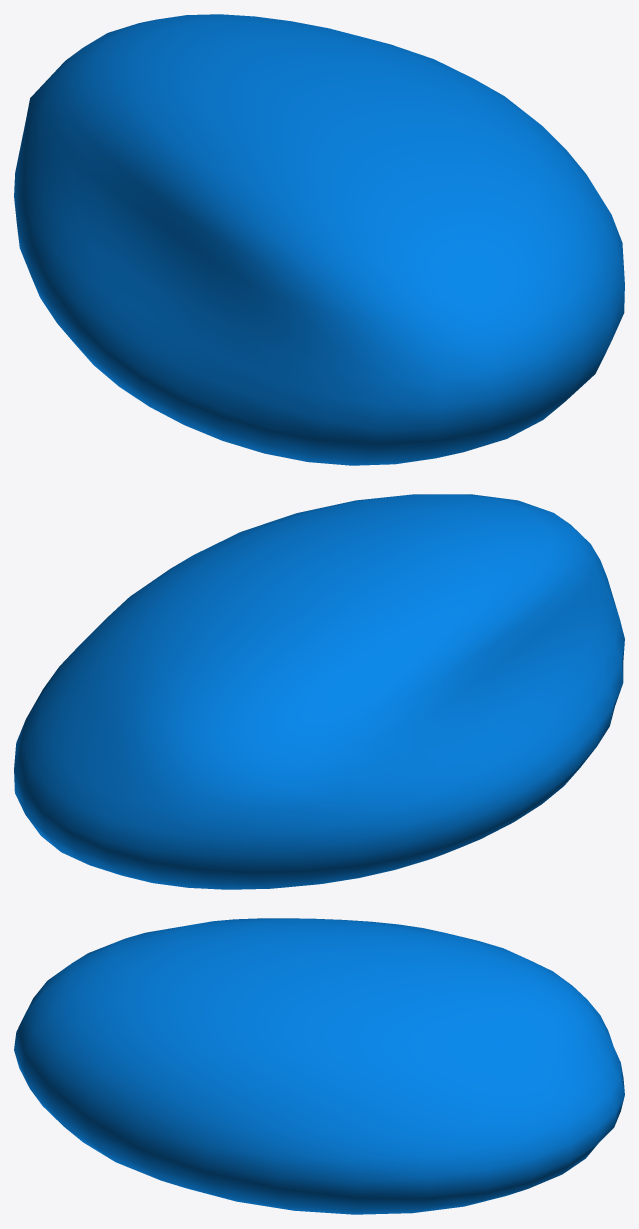
Rendered from blob-right-hand.glb.
3 renders of one model, top to bottom at view 1: azimuth 30°, elevation 25°; view 2: azimuth 150°, elevation 25°; view 3: azimuth 270°, elevation 25°, orthographic. The views are drawn at different scales.
Visible parts, largest first — view 1: Sphere001; view 2: Sphere001; view 3: Sphere001.
Part boxes in pixels (x1,y1,x2,y2): Sphere001: (14, 14, 624, 465); Sphere001: (14, 494, 624, 889); Sphere001: (14, 918, 624, 1214).
Size of the model in its own units: 0.3395 by 0.1948 by 0.4966.
